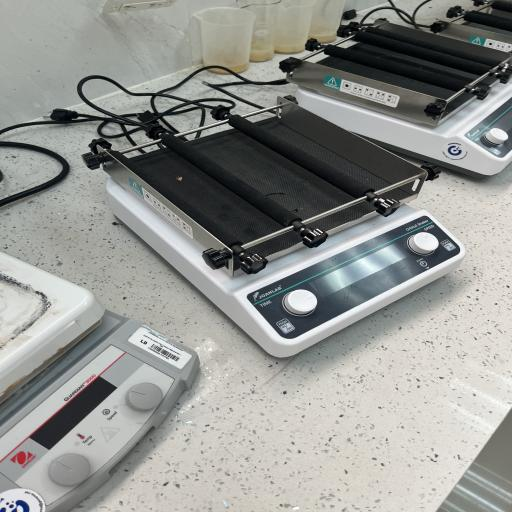Agitador_Orbital_DLAB: (67, 92, 491, 368)
